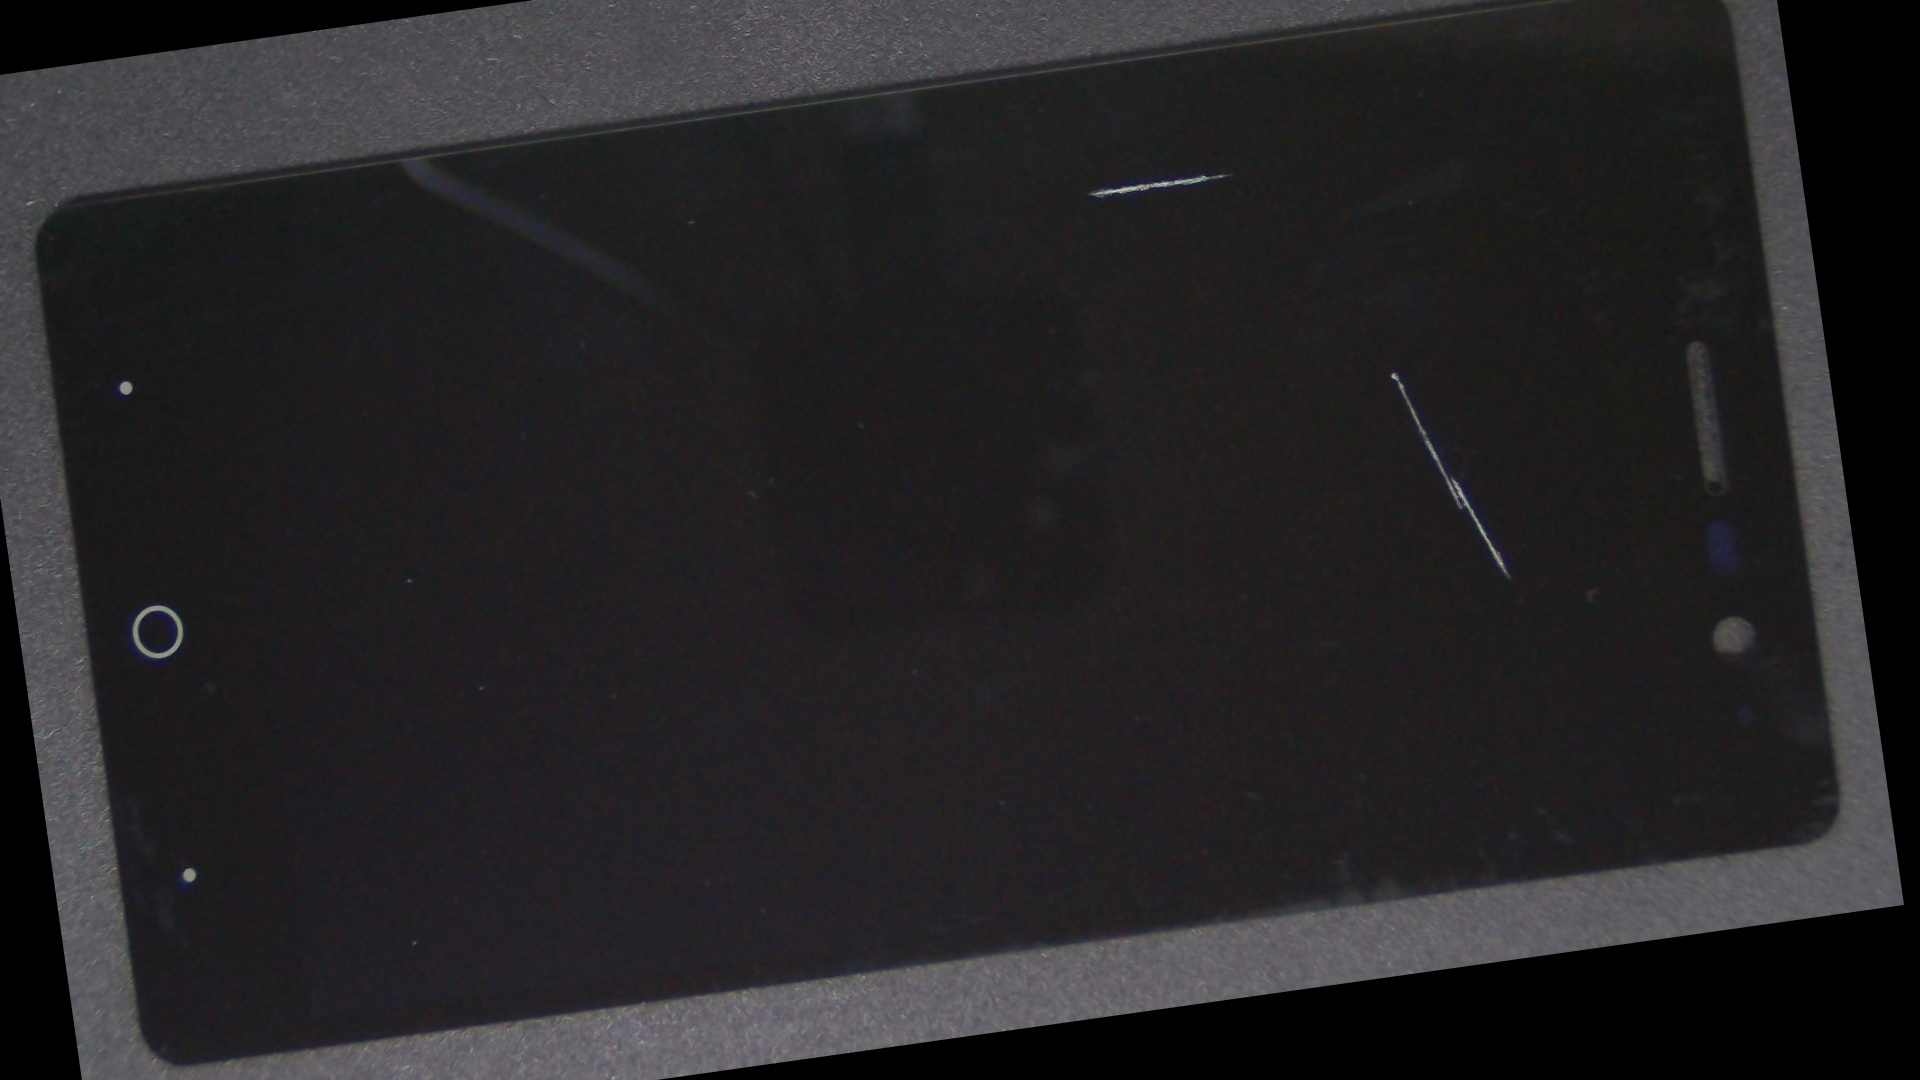oil: (669, 70, 1854, 709), (524, 0, 1685, 397)
